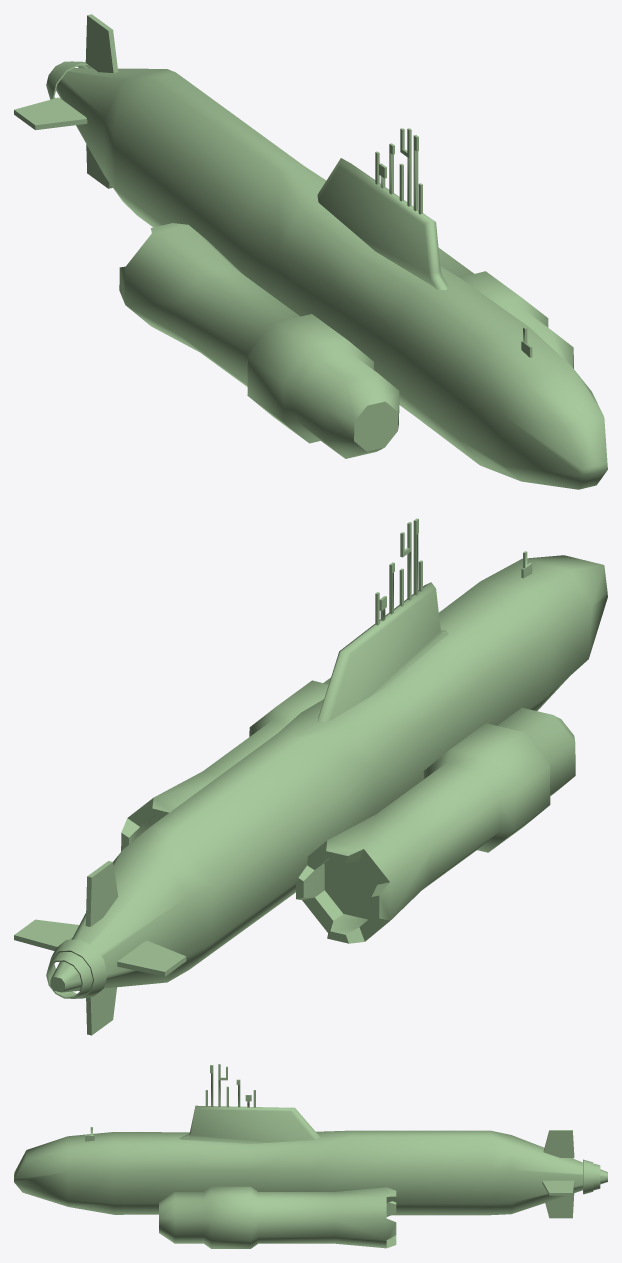
File: Enemy03.FBX
3 renders of one model, top to bottom at view 1: azimuth 30°, elevation 25°; view 2: azimuth 150°, elevation 25°; view 3: azimuth 270°, elevation 25°, orthographic. The views are drawn at different scales.
Parts seen in each view (by area): view 1: Enemy03; view 2: Enemy03; view 3: Enemy03.
Part boxes in pixels (x1,y1,x2,y2): Enemy03: (14, 14, 607, 489); Enemy03: (14, 518, 607, 1035); Enemy03: (14, 1064, 607, 1248).
Bounding box in the file's own units: 118 × 120 × 414.
